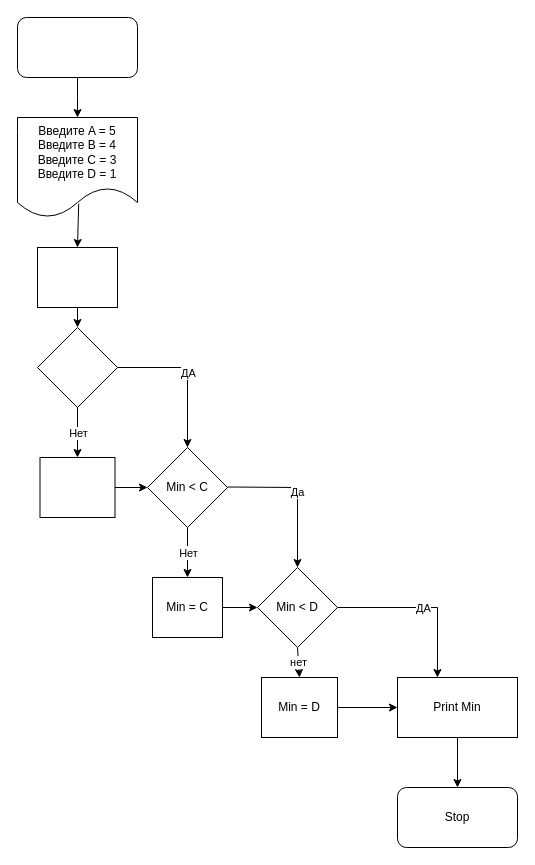
The diagram is 535 pixels wide and 865 high, and some of its shapes have lost their labels. The shapes that lost their labels are listed below. From the top down, each one's centre as x and y in pixels, then its label:
the point at 77,47: start
the point at 77,277: A = Min
the point at 77,367: A<B
the point at 77,487: Min = B
